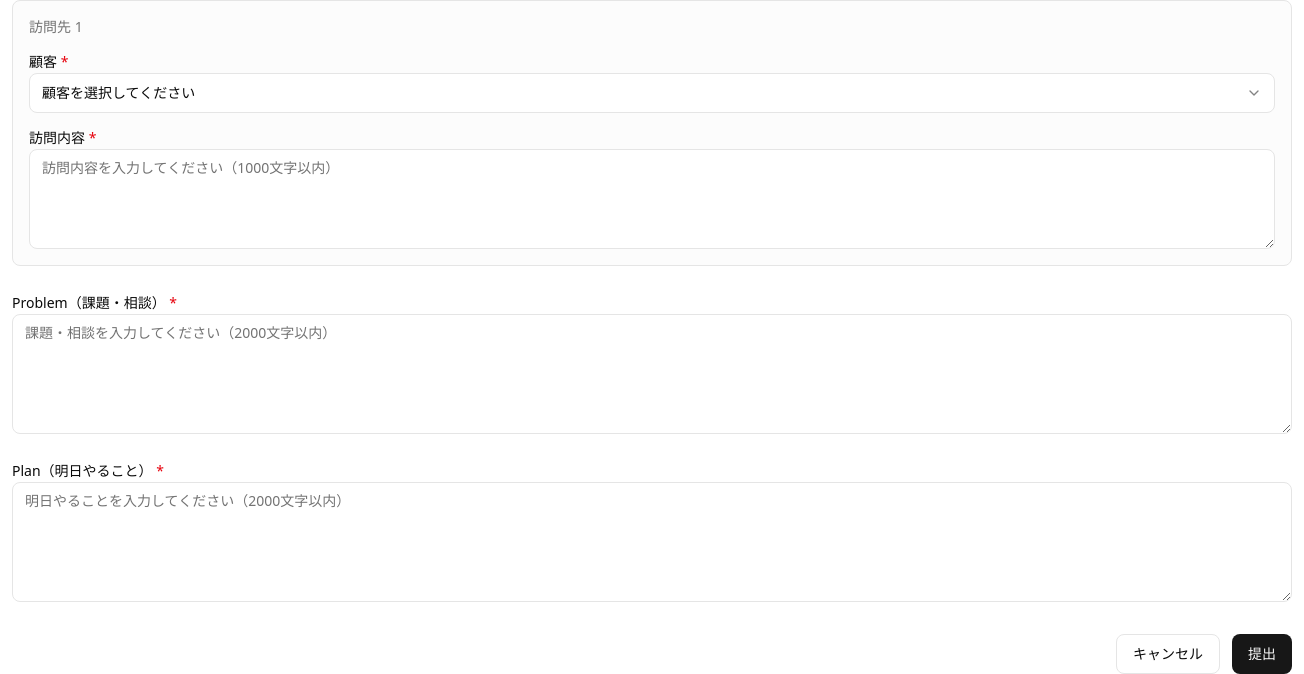
Test case: ReportForm › バリデーション › 必須フィールドが空のまま提出するとエラーが表示される
(page scrolled)
Click the button "提出" at (1262, 654), box [1232,634,1292,673]
(page scrolled)
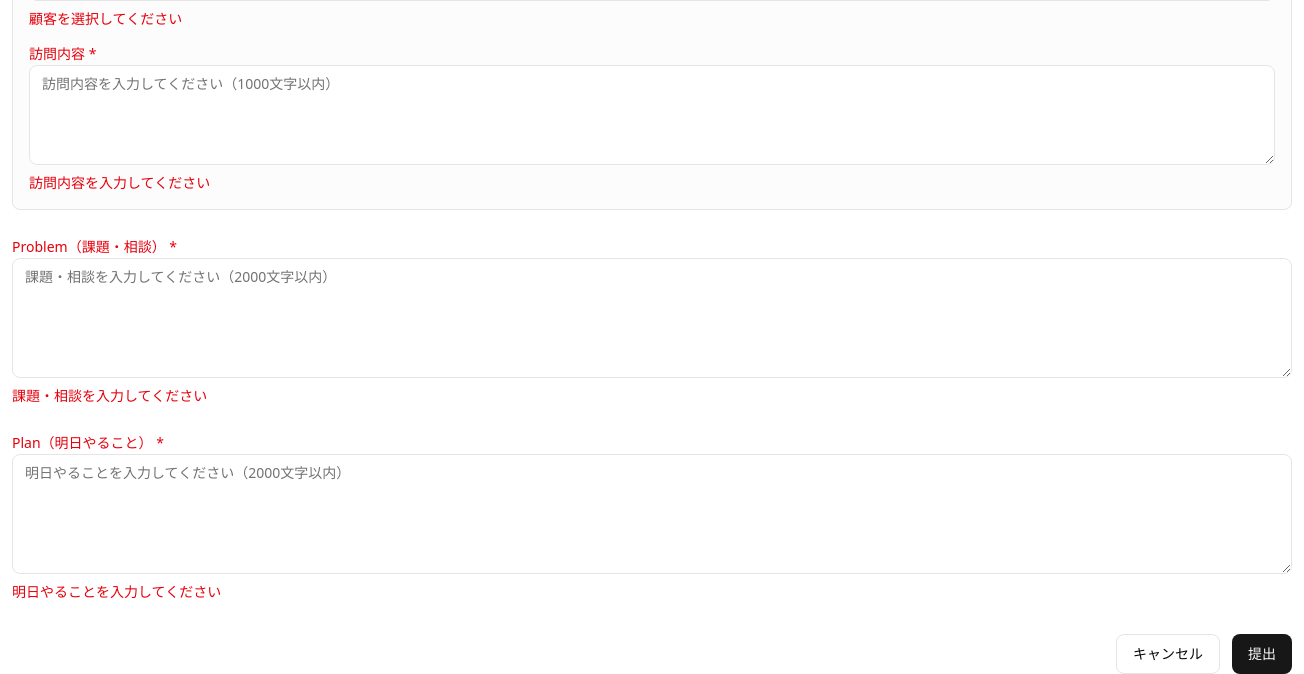
Now the text "課題・相談を入力してください" is shown, box [12,386,207,405]
Now the text "明日やることを入力してください" is shown, box [12,582,221,601]
